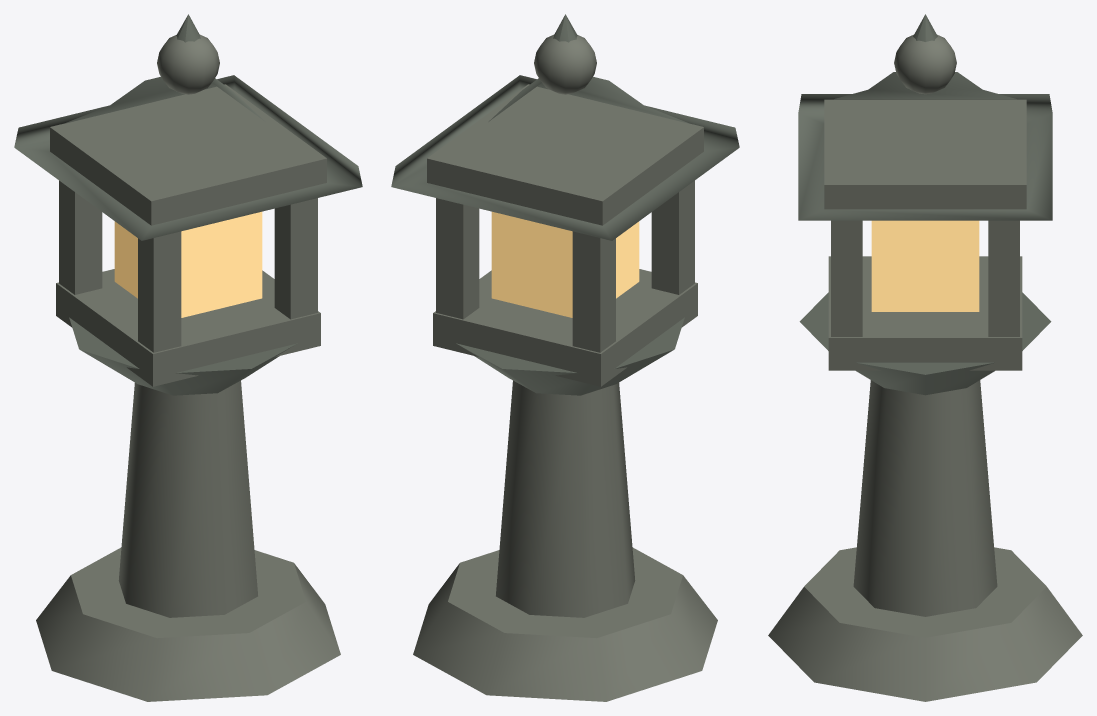
File: lantern.glb
3 renders of one model, left to right at view 1: azimuth 30°, elevation 25°; view 2: azimuth 150°, elevation 25°; view 3: azimuth 270°, elevation 25°, orthographic.
Visible parts, largest first — view 1: Garden stone lantern; view 2: Garden stone lantern; view 3: Garden stone lantern.
Part boxes in pixels (<box>): Garden stone lantern: <box>14,14,362,701</box>; Garden stone lantern: <box>391,14,739,701</box>; Garden stone lantern: <box>768,14,1082,701</box>.
Bounding box in the file's own units: 0.7 × 1.53 × 0.7.
